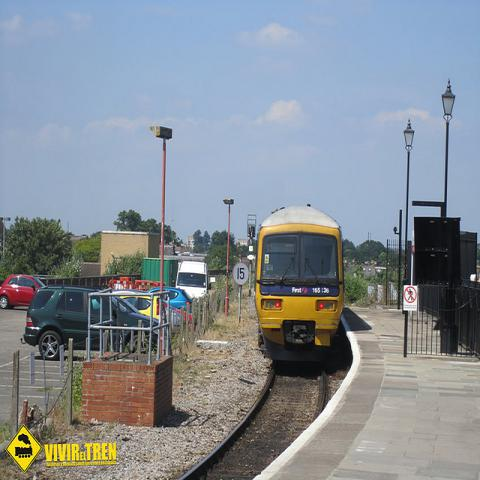car: (20, 286, 158, 360), (2, 271, 43, 308), (147, 286, 193, 314)
